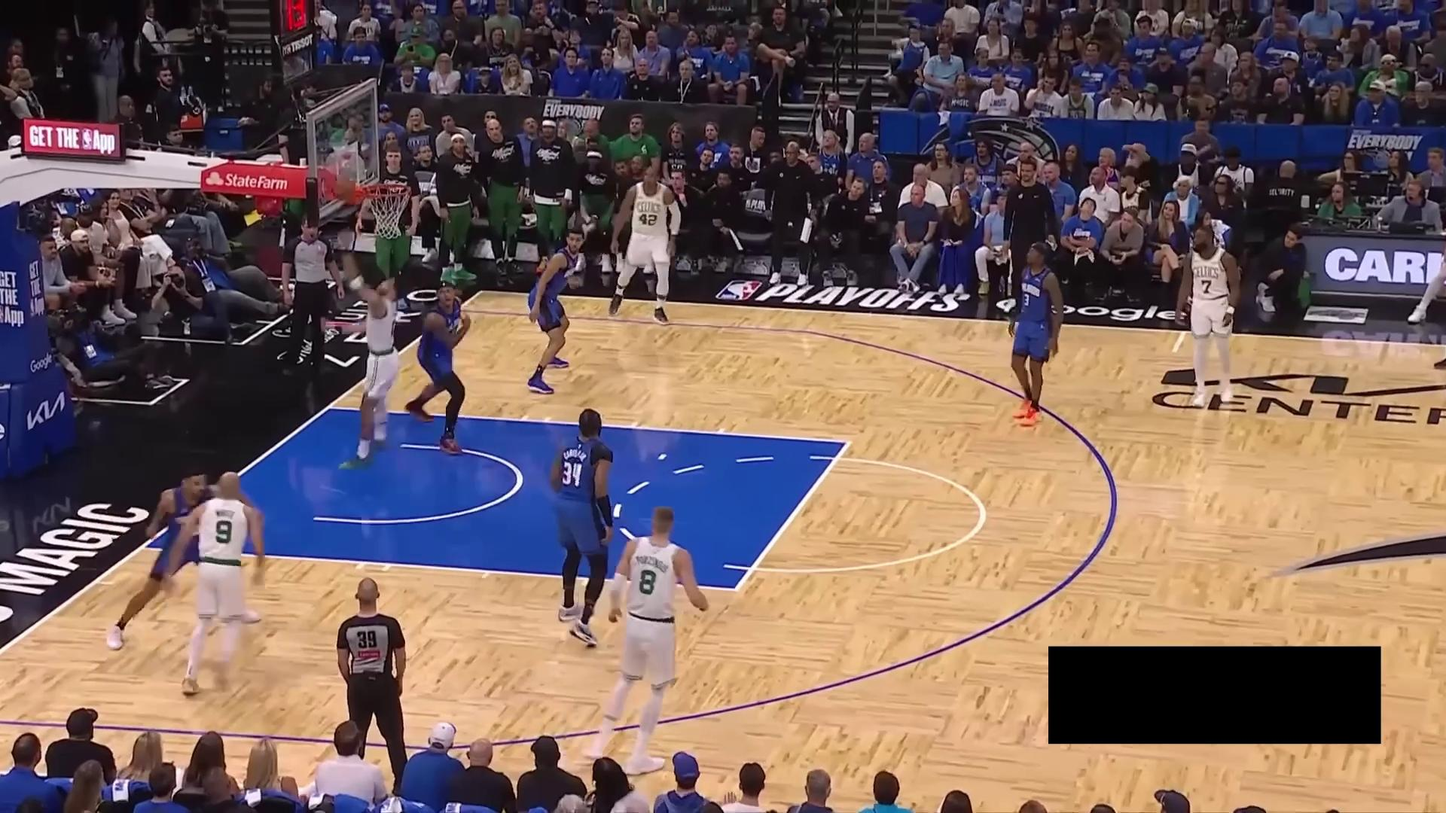ball: (332, 174, 356, 200)
number: (559, 458, 584, 487), (637, 569, 659, 596), (213, 519, 233, 544), (638, 212, 658, 226), (1201, 279, 1212, 294), (1023, 293, 1030, 306)
player: (580, 501, 717, 775), (105, 465, 263, 652), (545, 404, 627, 652), (399, 275, 479, 457), (1175, 219, 1246, 410), (519, 214, 590, 397), (1004, 238, 1071, 431), (603, 166, 683, 326)
player-layup-dunk: (335, 223, 407, 471)
referee: (164, 468, 269, 697), (331, 572, 415, 801), (272, 206, 347, 373)
rim: (360, 182, 411, 197)
